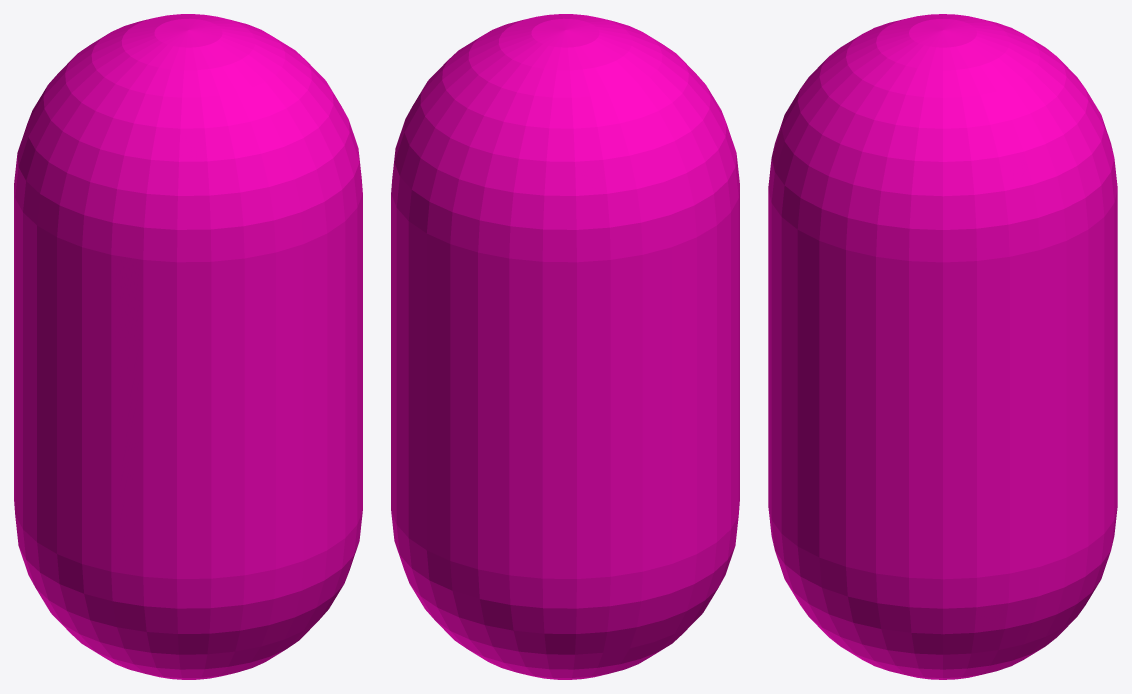
Rendered from pill.glb.
3 views of the same model, side by side, from view 1: azimuth 30°, elevation 25°; view 2: azimuth 150°, elevation 25°; view 3: azimuth 270°, elevation 25° (orthographic).
Visible parts, largest first — view 1: Cylinder; view 2: Cylinder; view 3: Cylinder.
Part boxes in pixels (x1,y1,x2,y2): Cylinder: [14, 14, 362, 679]; Cylinder: [391, 14, 739, 679]; Cylinder: [768, 14, 1117, 679].
Size of the model in its own units: 0.9925 by 1.99 by 0.9925.
1 material, 1 textured.
